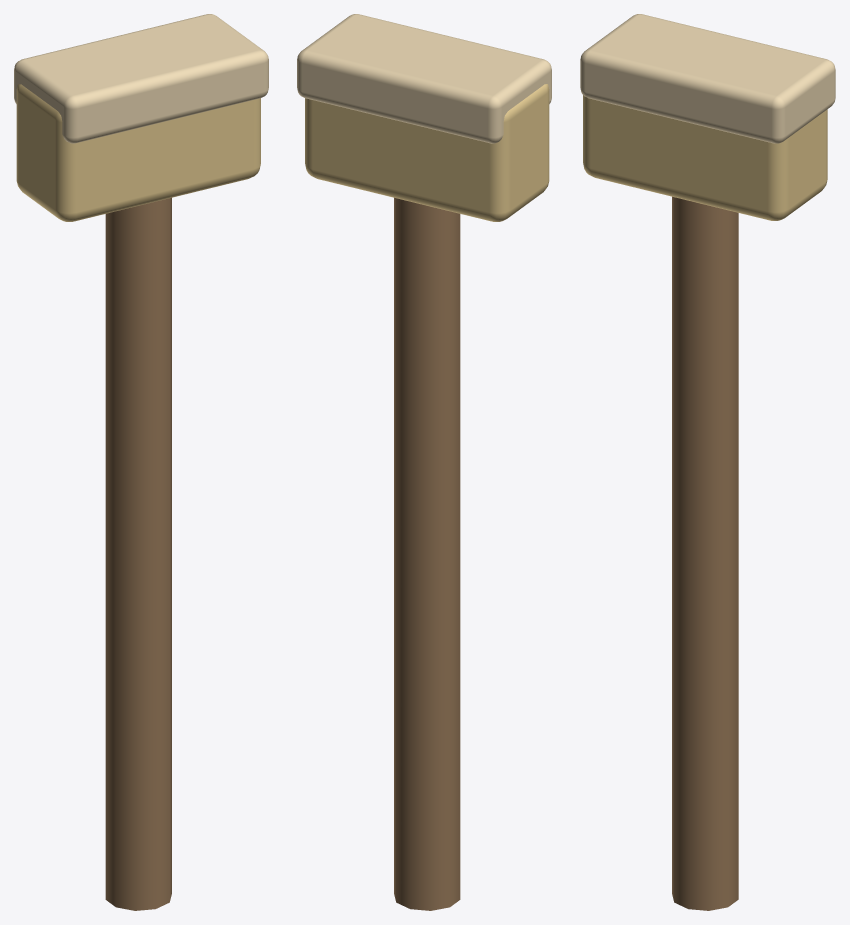
The model's file is marquetry-and-veneer-inlay-workshop-veneer-hammer-a88db806__39101.glb.
The picture shows the model from 3 angles, left to right: view 1: azimuth 30°, elevation 25°; view 2: azimuth 150°, elevation 25°; view 3: azimuth 330°, elevation 25°; orthographic projection.
Parts seen in each view (by area): view 1: veneer-hammer; view 2: veneer-hammer; view 3: veneer-hammer.
Boxes of the visible parts, bbox=[...] form: veneer-hammer: bbox=[14, 14, 268, 910]; veneer-hammer: bbox=[297, 14, 551, 910]; veneer-hammer: bbox=[580, 14, 835, 910].
Bounding box in the file's own units: 0.0912 × 0.355 × 0.045.
